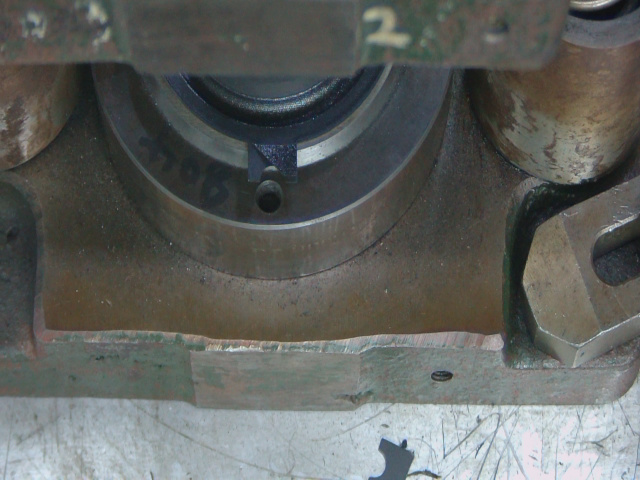OK: (248, 140, 313, 193)
